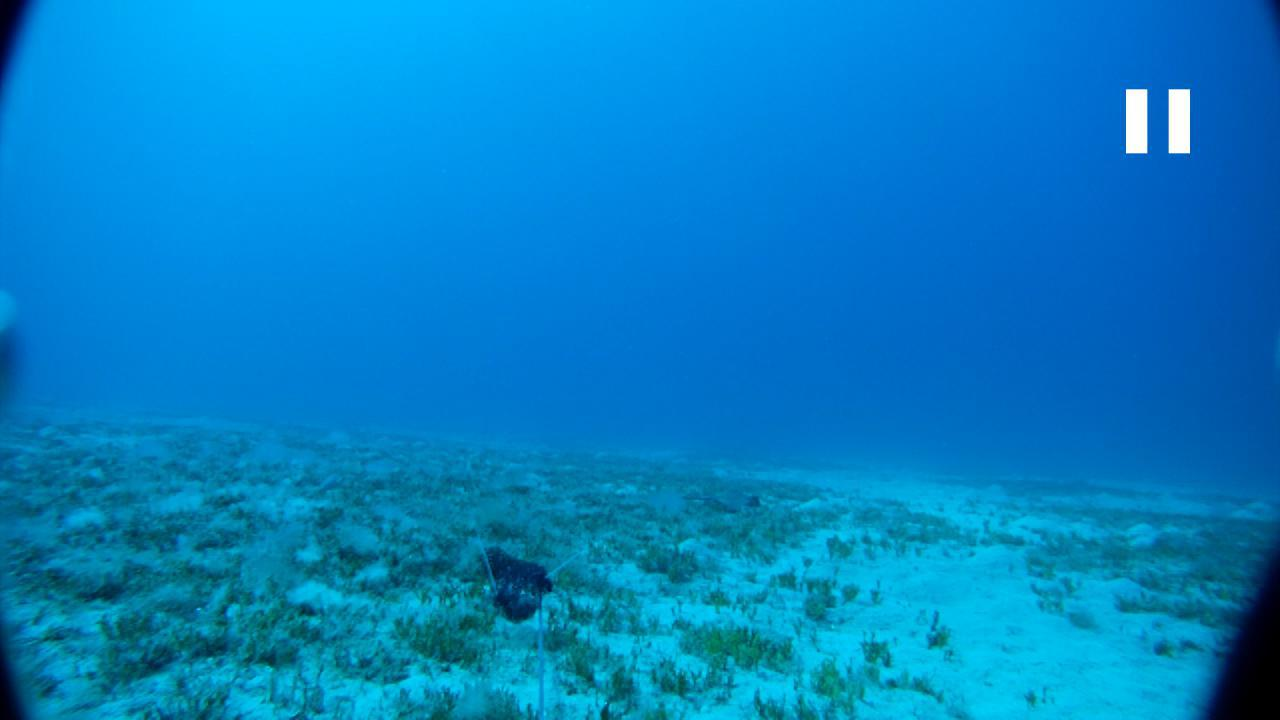dasyatis: (662, 492, 762, 512)
